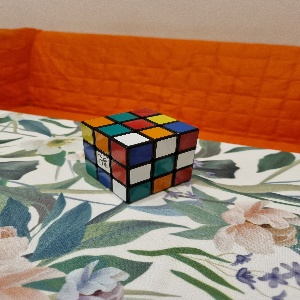cube: (80, 107, 200, 205)
